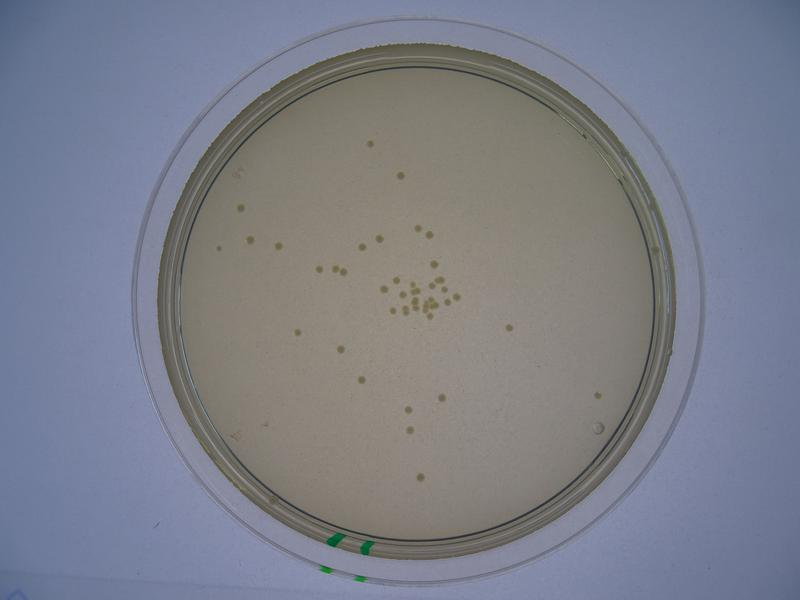colony: (436, 389, 453, 406), (391, 168, 406, 183), (333, 342, 350, 355), (374, 232, 388, 247), (291, 327, 308, 339), (366, 135, 377, 153), (503, 322, 517, 335), (243, 234, 256, 247), (270, 239, 283, 252), (417, 469, 428, 484), (592, 389, 604, 402), (313, 263, 324, 277), (354, 374, 368, 385), (355, 241, 366, 255), (232, 203, 246, 213)
